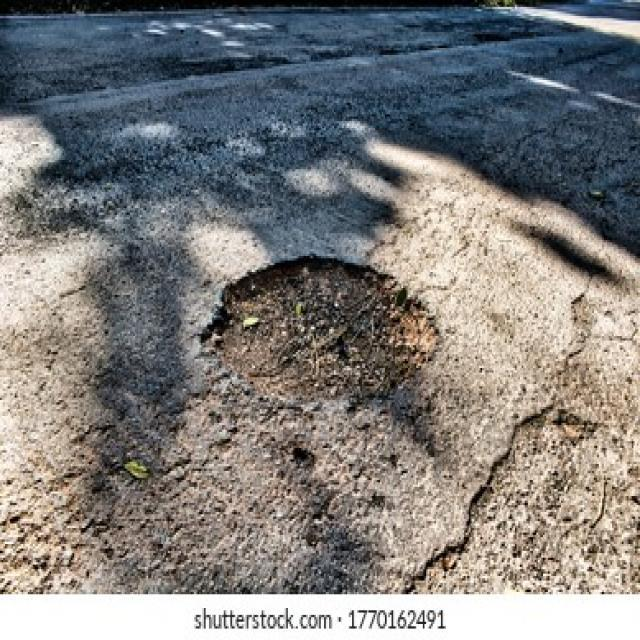Pothole: (201, 252, 446, 409)
